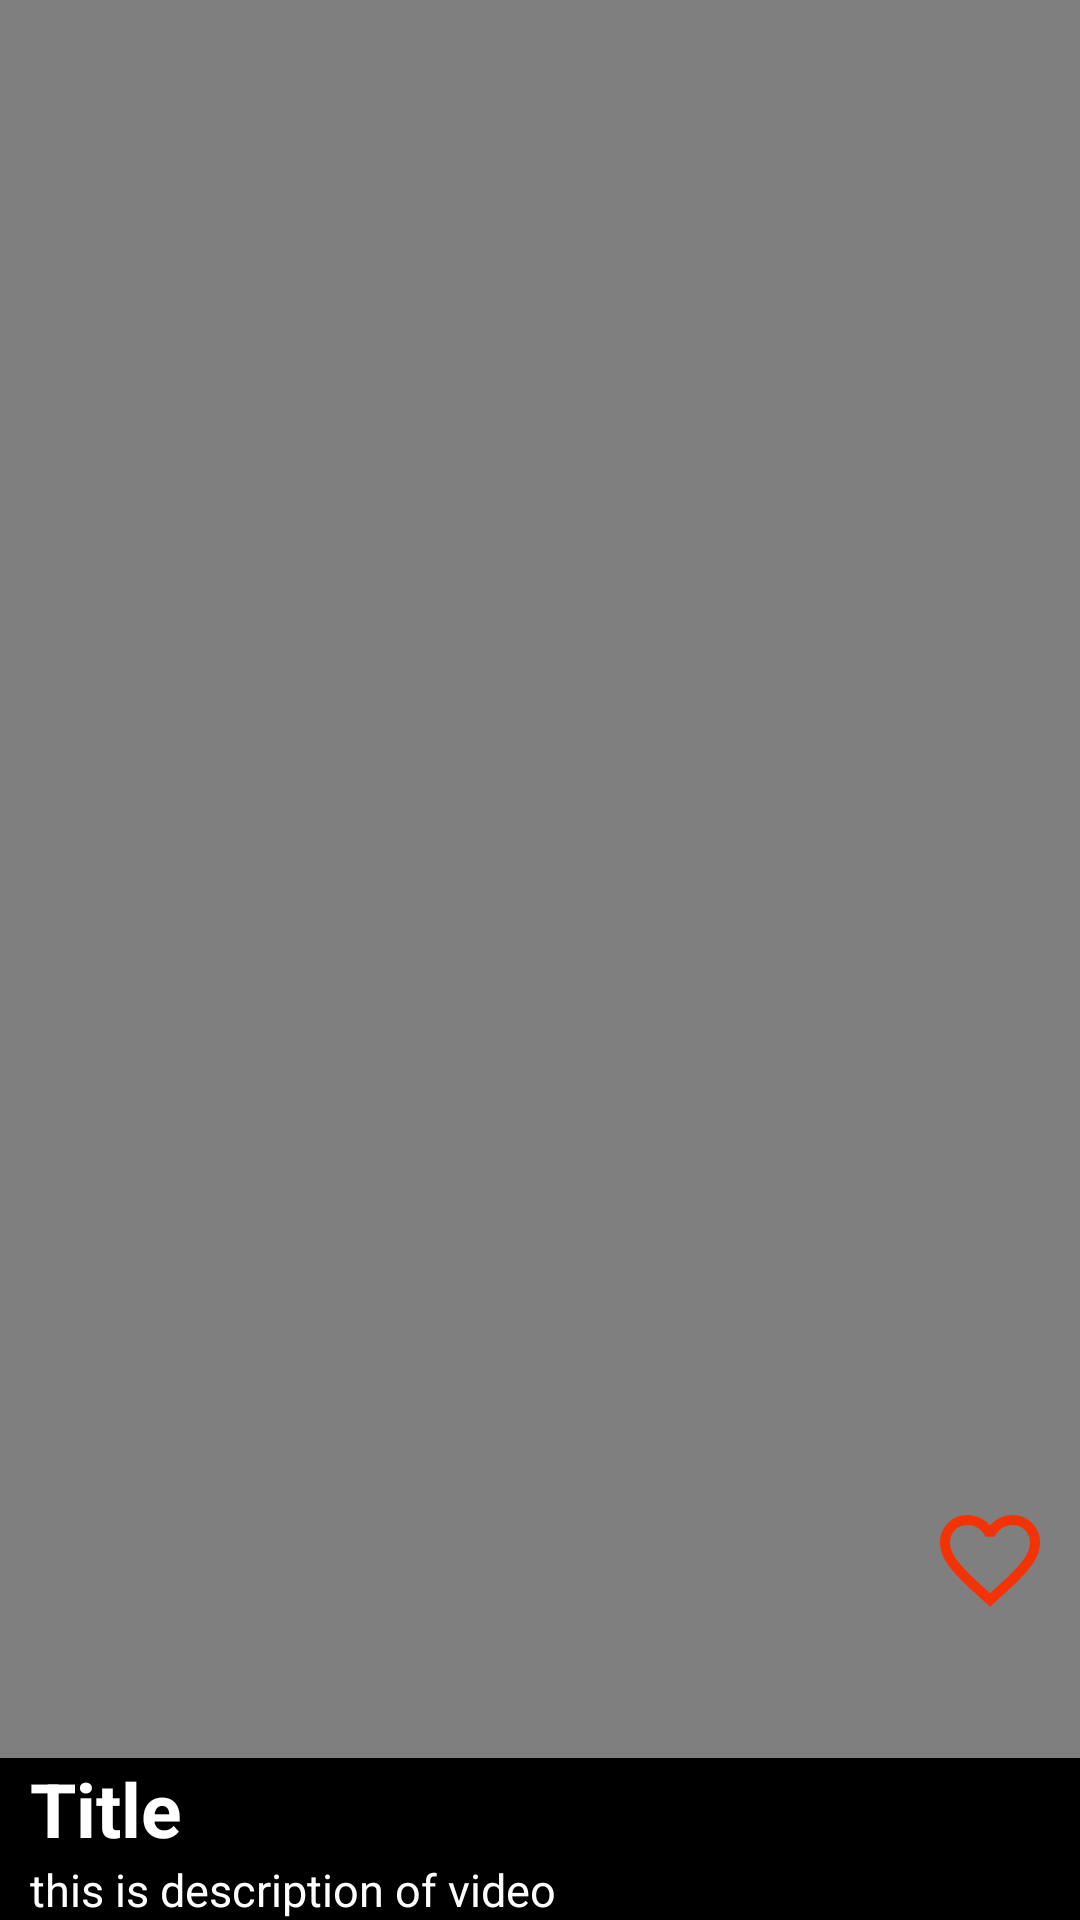

Locate icon controls on the screen. Image size 1080w x 1920h, boxes as rect(x1, y1, x2, y2).
unlike: rect(940, 1515, 1040, 1607)
